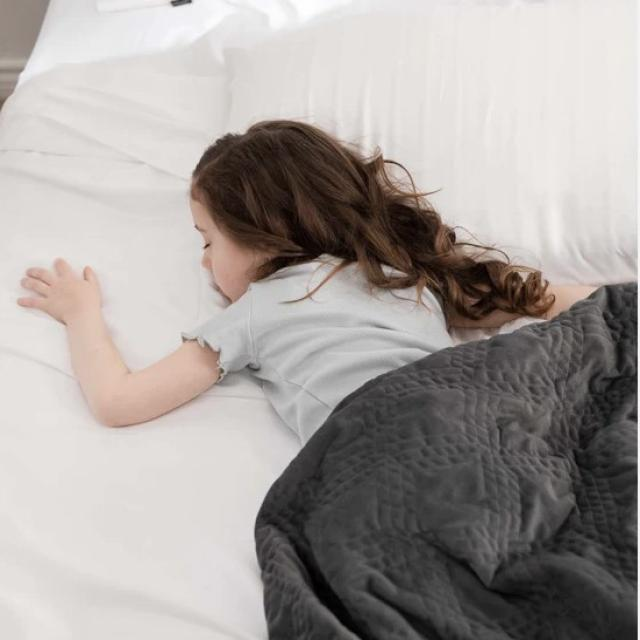sleeping-person: (8, 103, 639, 640)
